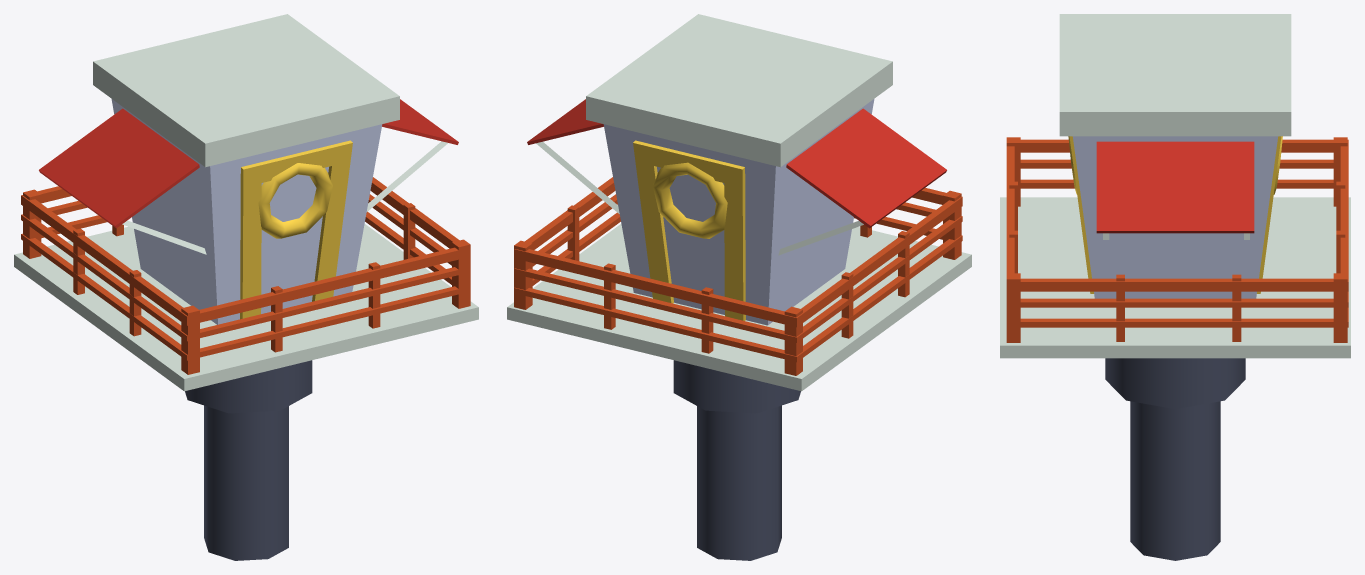
Rendered from Maison.FBX.
The picture shows the model from 3 angles, left to right: view 1: azimuth 30°, elevation 25°; view 2: azimuth 150°, elevation 25°; view 3: azimuth 270°, elevation 25°; orthographic projection. The views are drawn at different scales.
Parts seen in each view (by area): view 1: Cylinder011; view 2: Cylinder011; view 3: Cylinder011.
Part boxes in pixels (x1=…): Cylinder011: x1=14, y1=14, x2=478, y2=560; Cylinder011: x1=507, y1=14, x2=971, y2=560; Cylinder011: x1=1000, y1=14, x2=1350, y2=560.
Bounding box in the file's own units: 1167 × 1506 × 1000.
